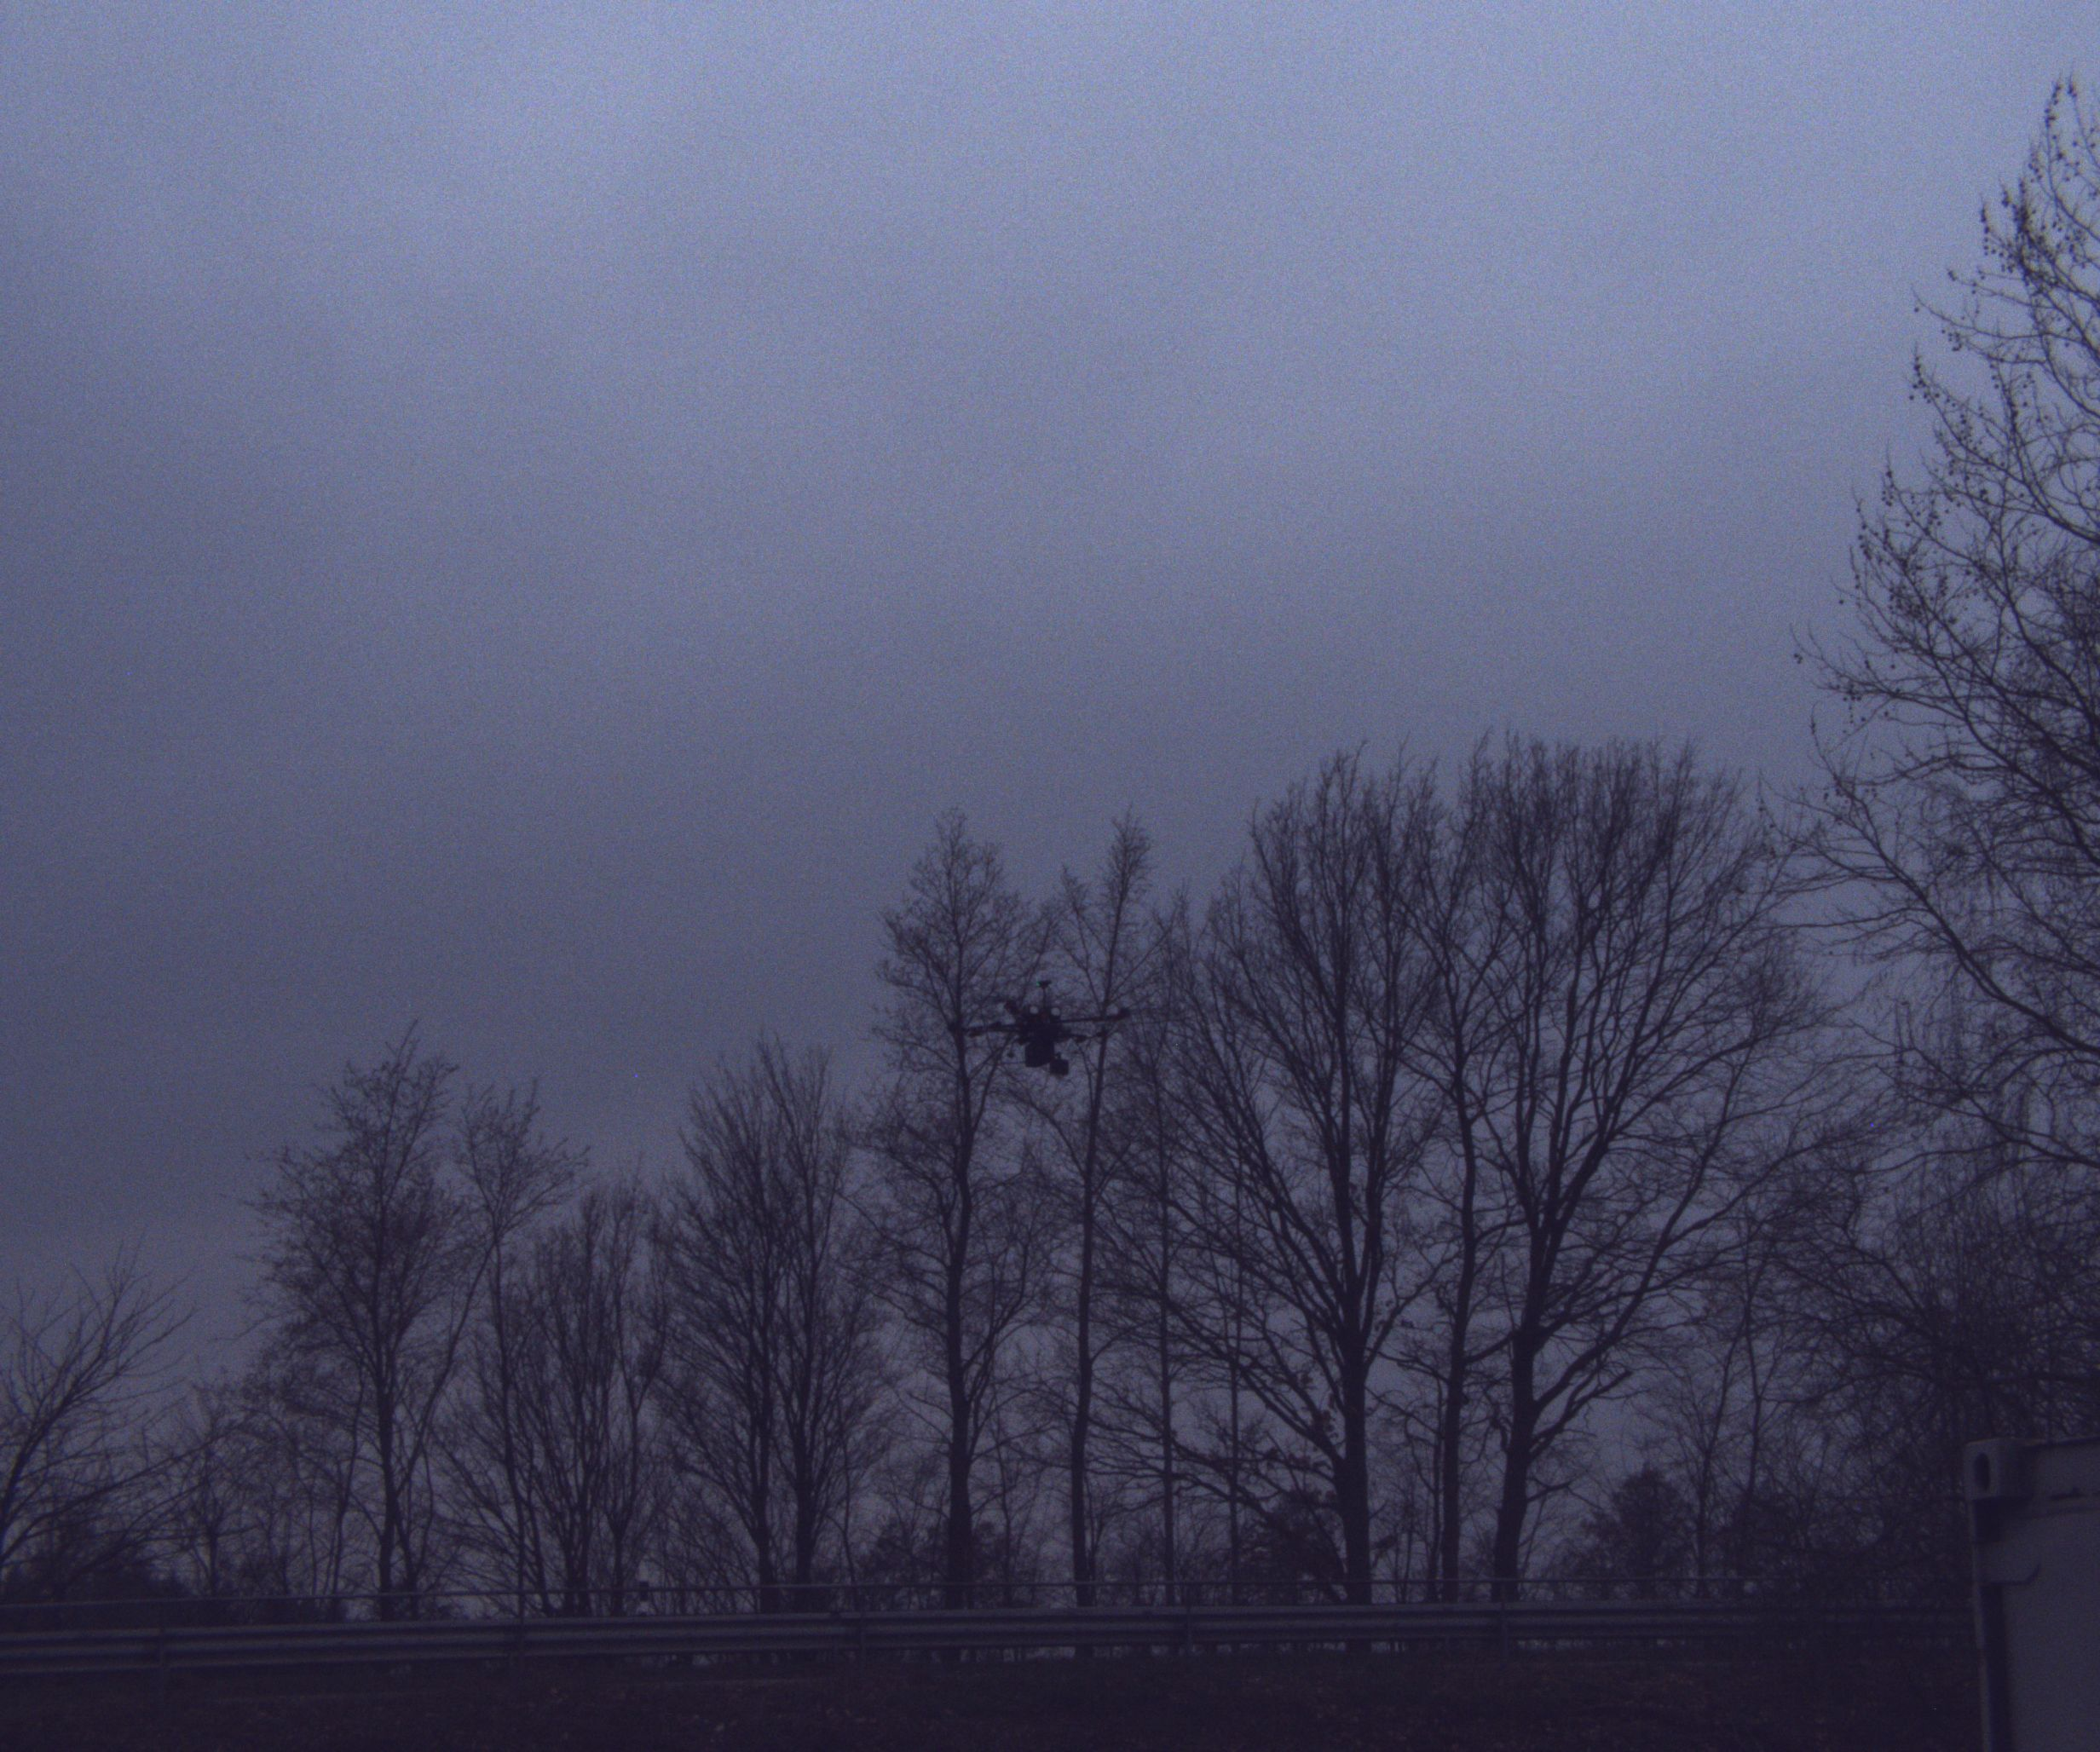Drohne: (916, 955, 1230, 1149)
